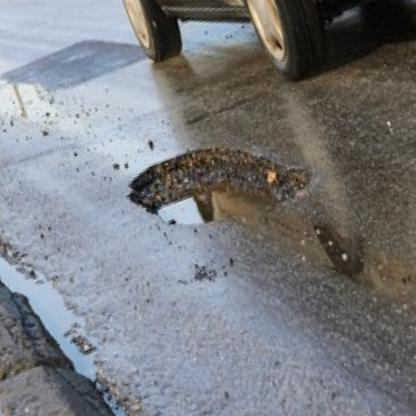pothole: (118, 112, 319, 260)
